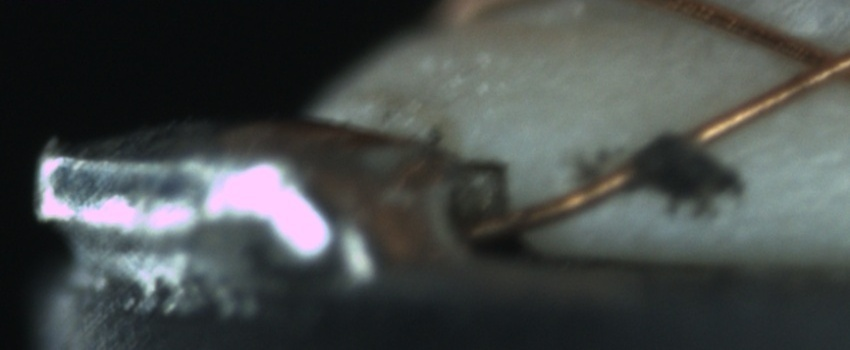CL: (775, 28, 848, 95)
